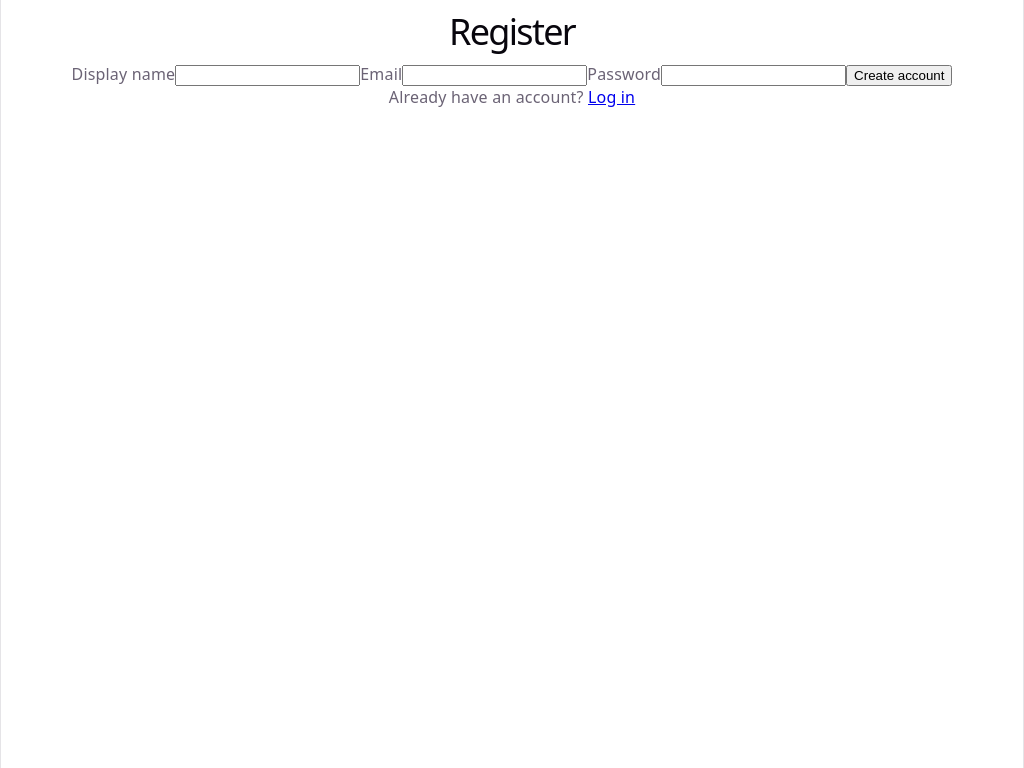
shows an error message when registration fails
In the field labelled "Display name": (268, 76) [175,65,360,86], type "New User"
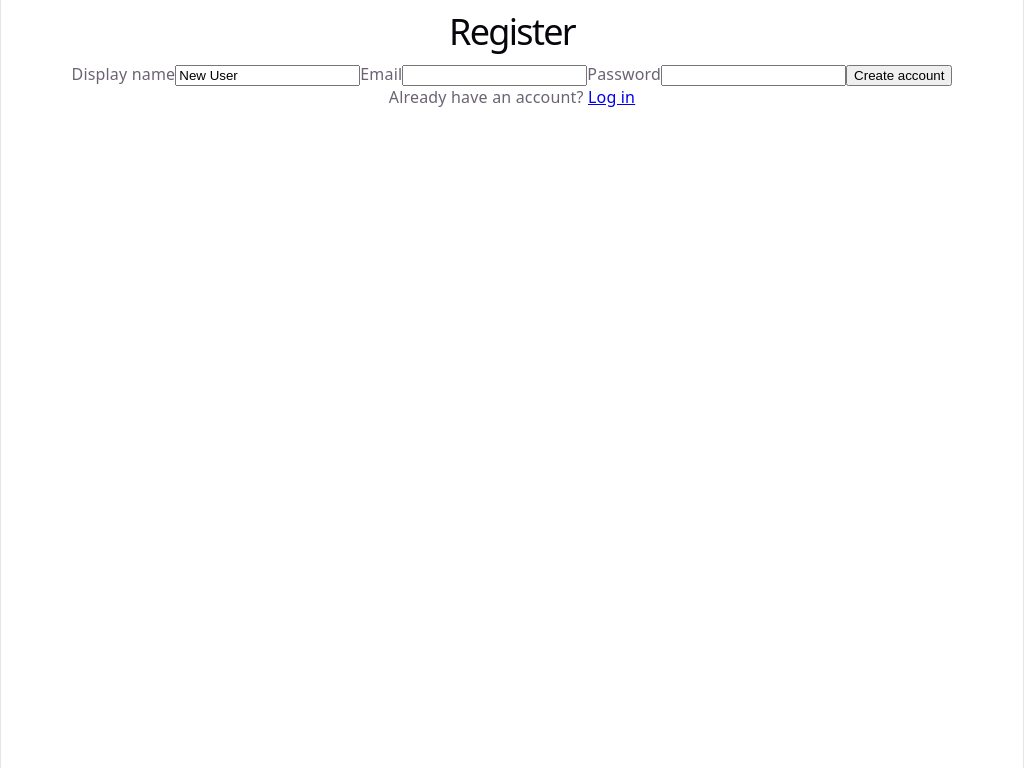
In the field labelled "Email": (495, 76) [402,65,587,86], type "user@example.com"
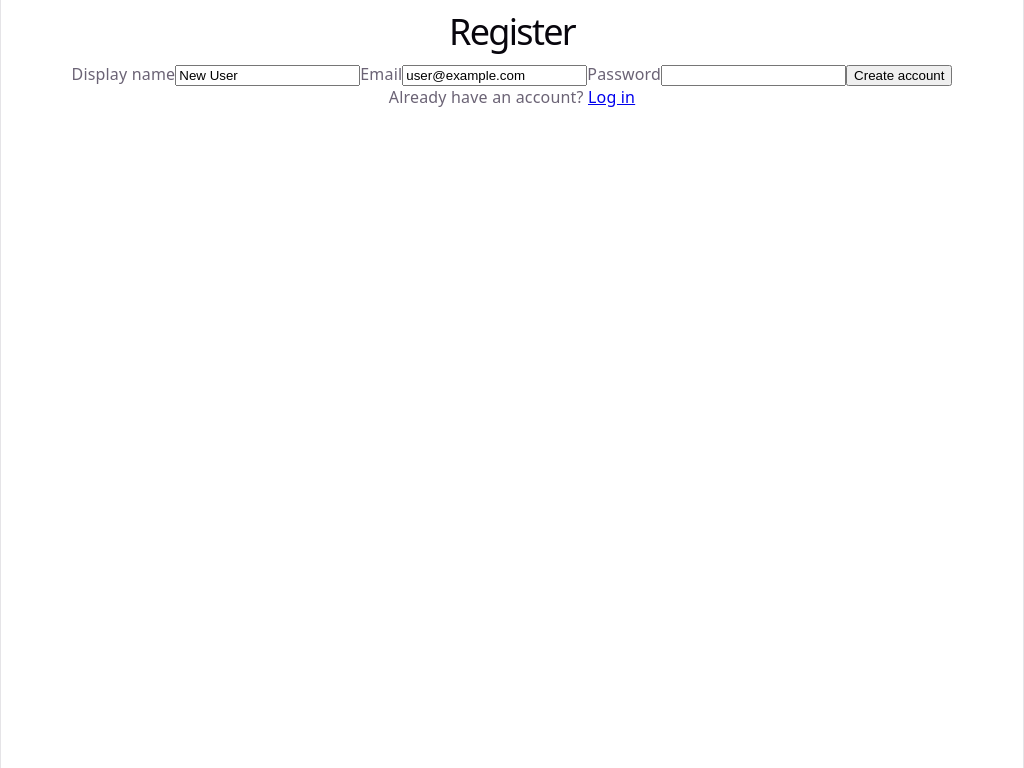
In the password field labelled "Password": (754, 76) [661,65,846,86], type "password123"
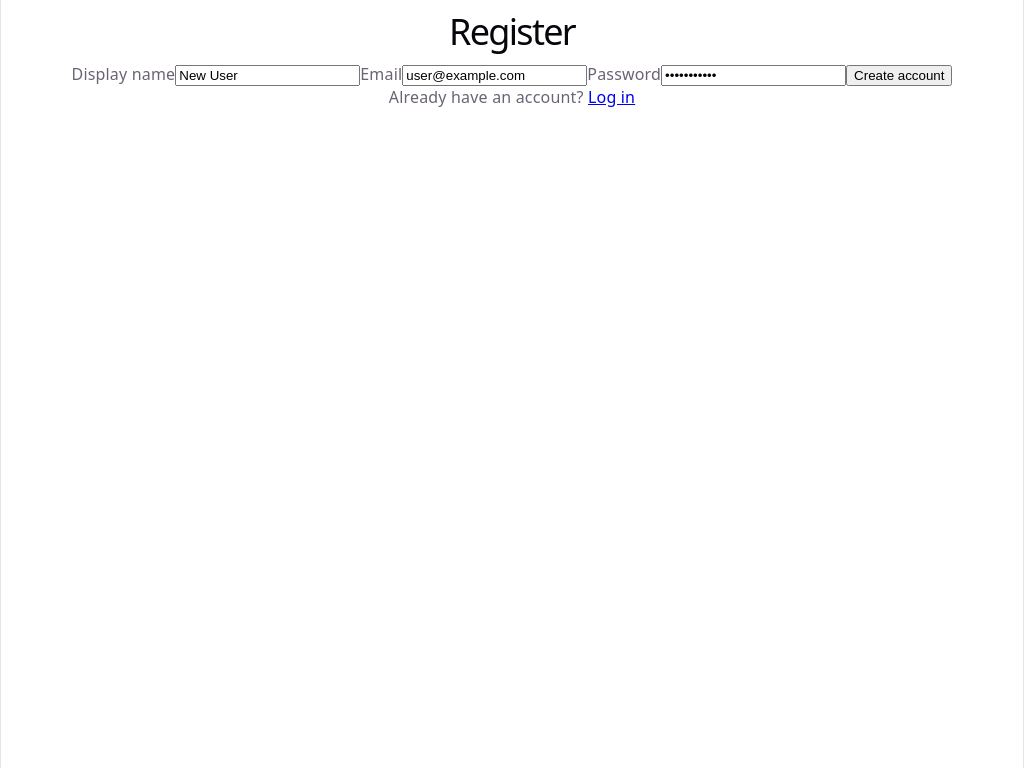
Click the button "Create account": (899, 76) [846,65,952,86]
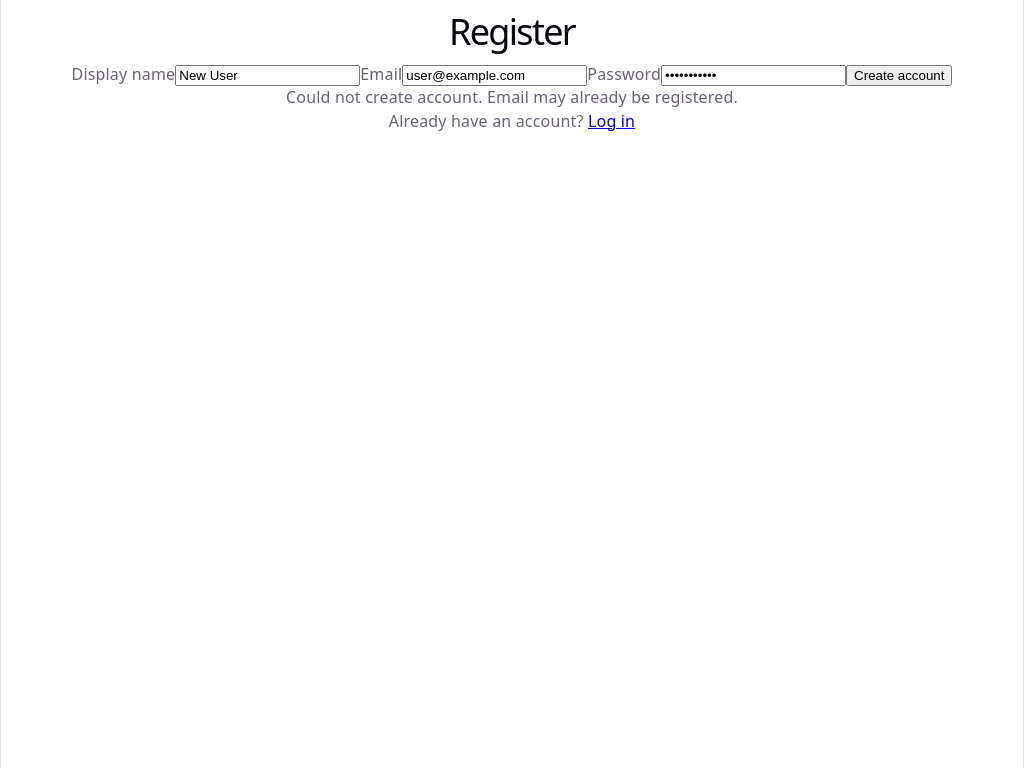
Now the message reads "Could not create account. Email may already be registered.", box [286,86,738,108]
